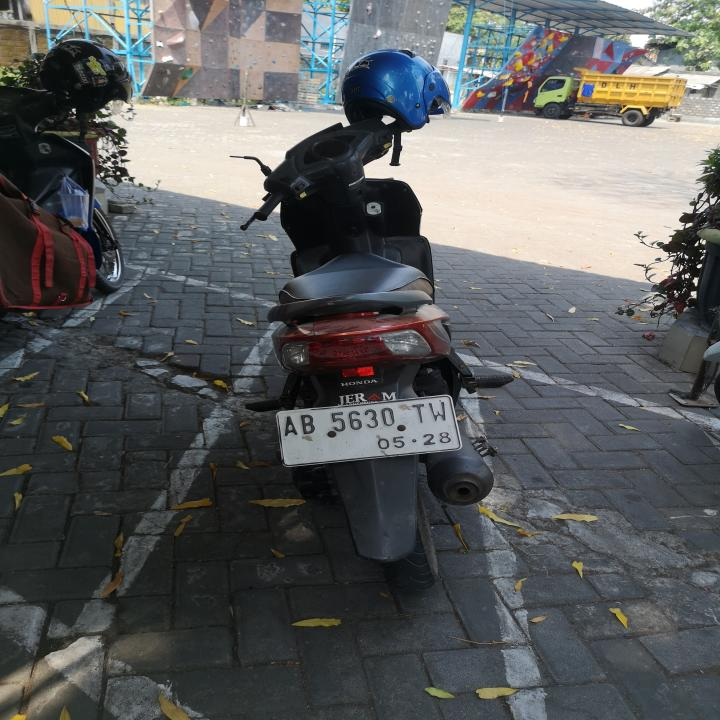plate: (274, 390, 468, 472)
